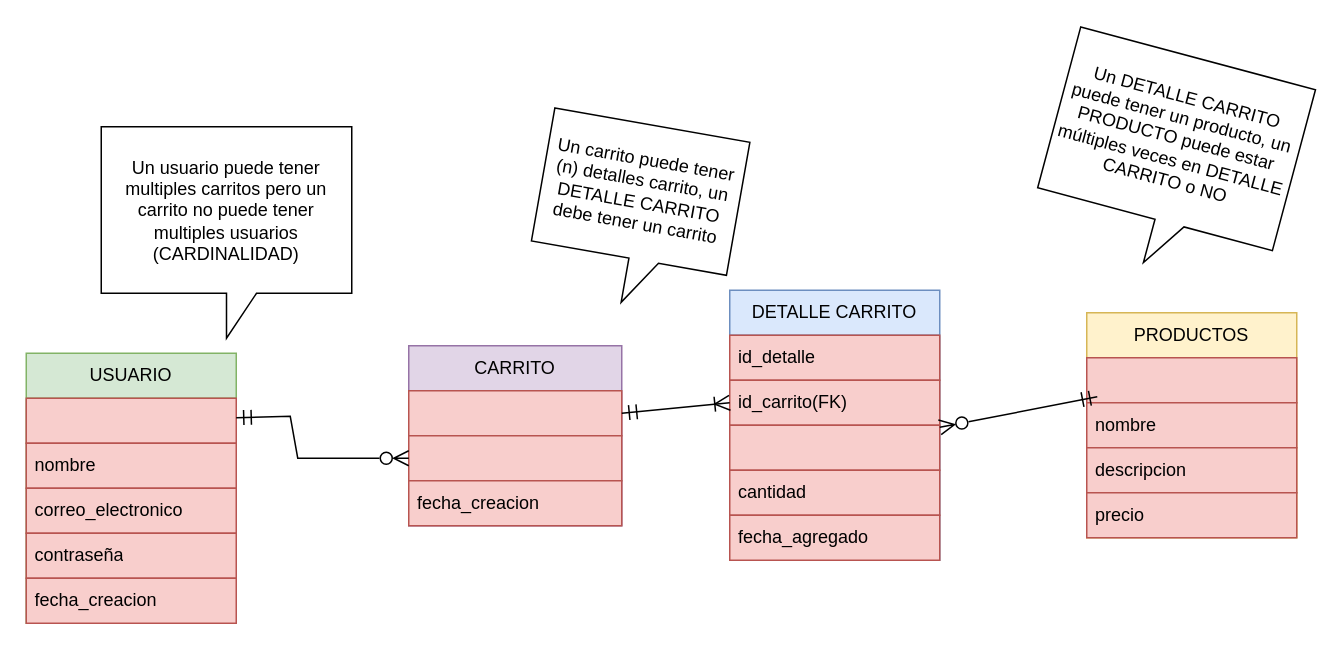
Some shapes in this 1343 by 650 pixel diagram are drawn without their labels. Each missing label, with the centre of its shape:
id_carrito(PK): the point at 514,412
id_producto(FK): the point at 834,447
id_productos(PK): the point at 1191,379
id_usuario (PK): the point at 130,420
id_usuario(FK): the point at 514,457
